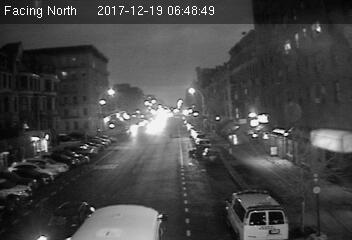police: (225, 188, 289, 240)
